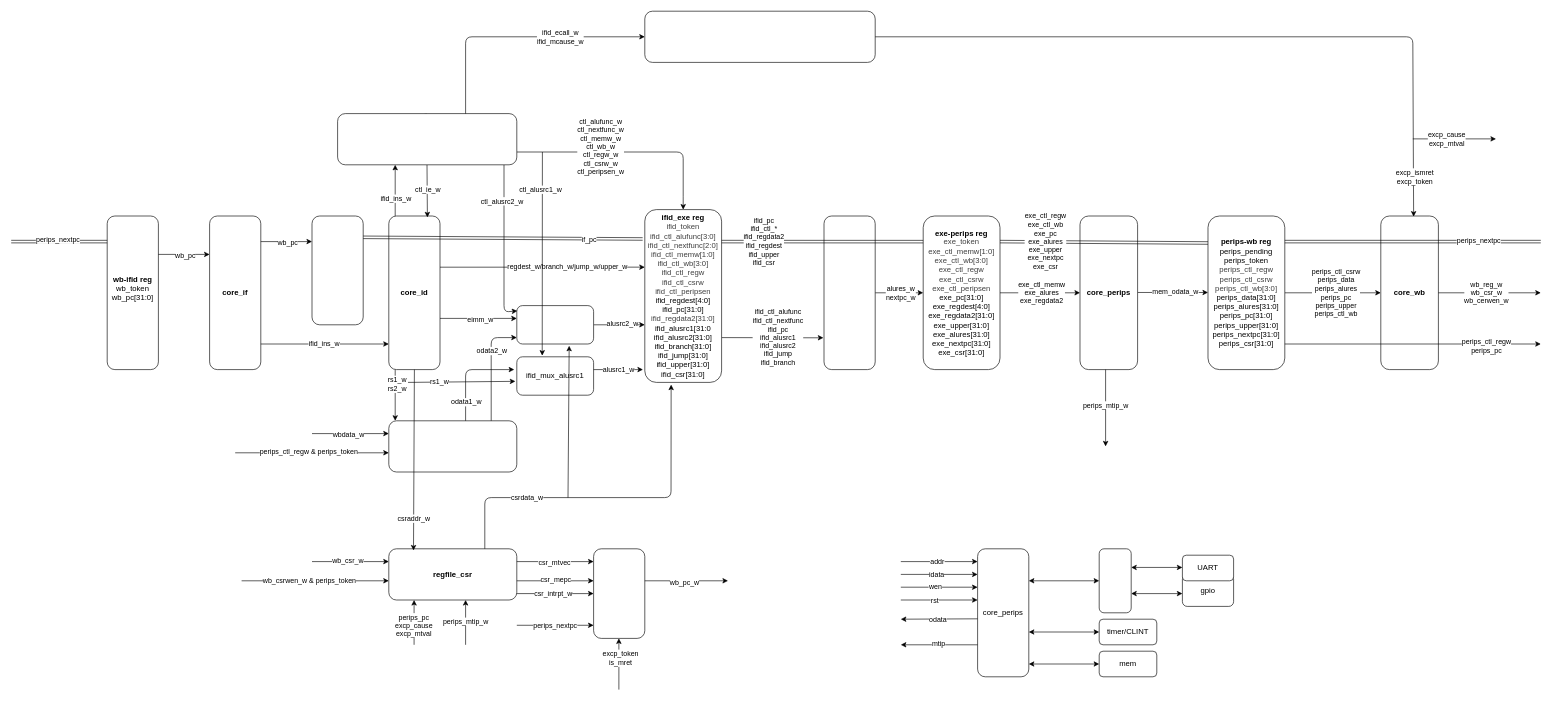
Image size: 1557x706. Some labels were removed from this diagram. Here are the shapes that lost their labels. From the top down, the centre of each, then its label:
(759,36): exception excp_token excp_ismret excp_cause[31:0] excp_mtval[31:0]
(427,139): control unit
(337,270): if_id reg if_token if_pc
(849,292): core_exe
(555,324): ifid_mux_alusrc2
(452,446): regfile
(619,593): wb_mux_pc
(1115,580): axi
